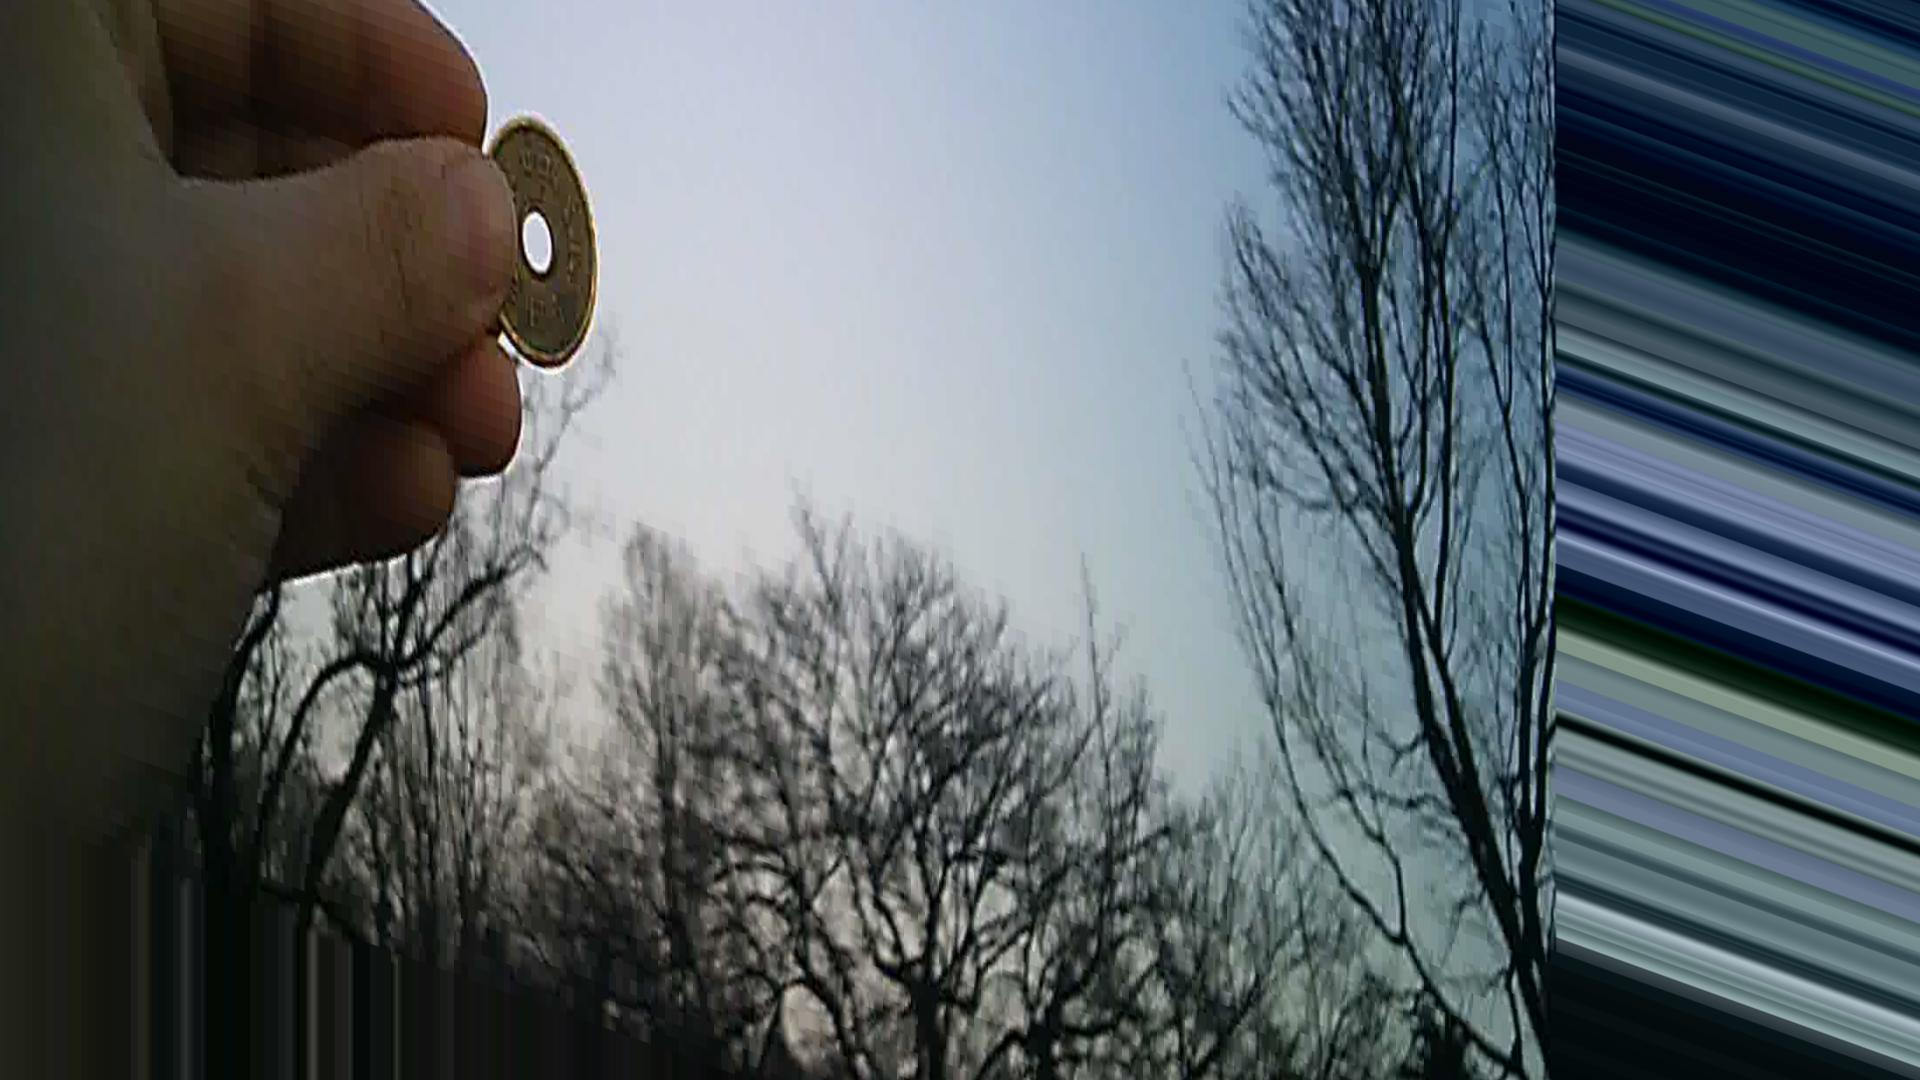5 Yen: (471, 102, 613, 365)
